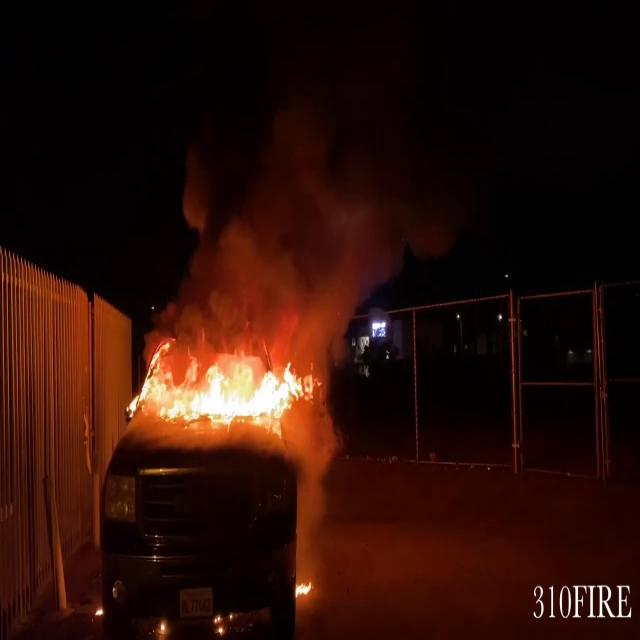Fire: (124, 342, 316, 438)
Smoke: (202, 81, 444, 355)
